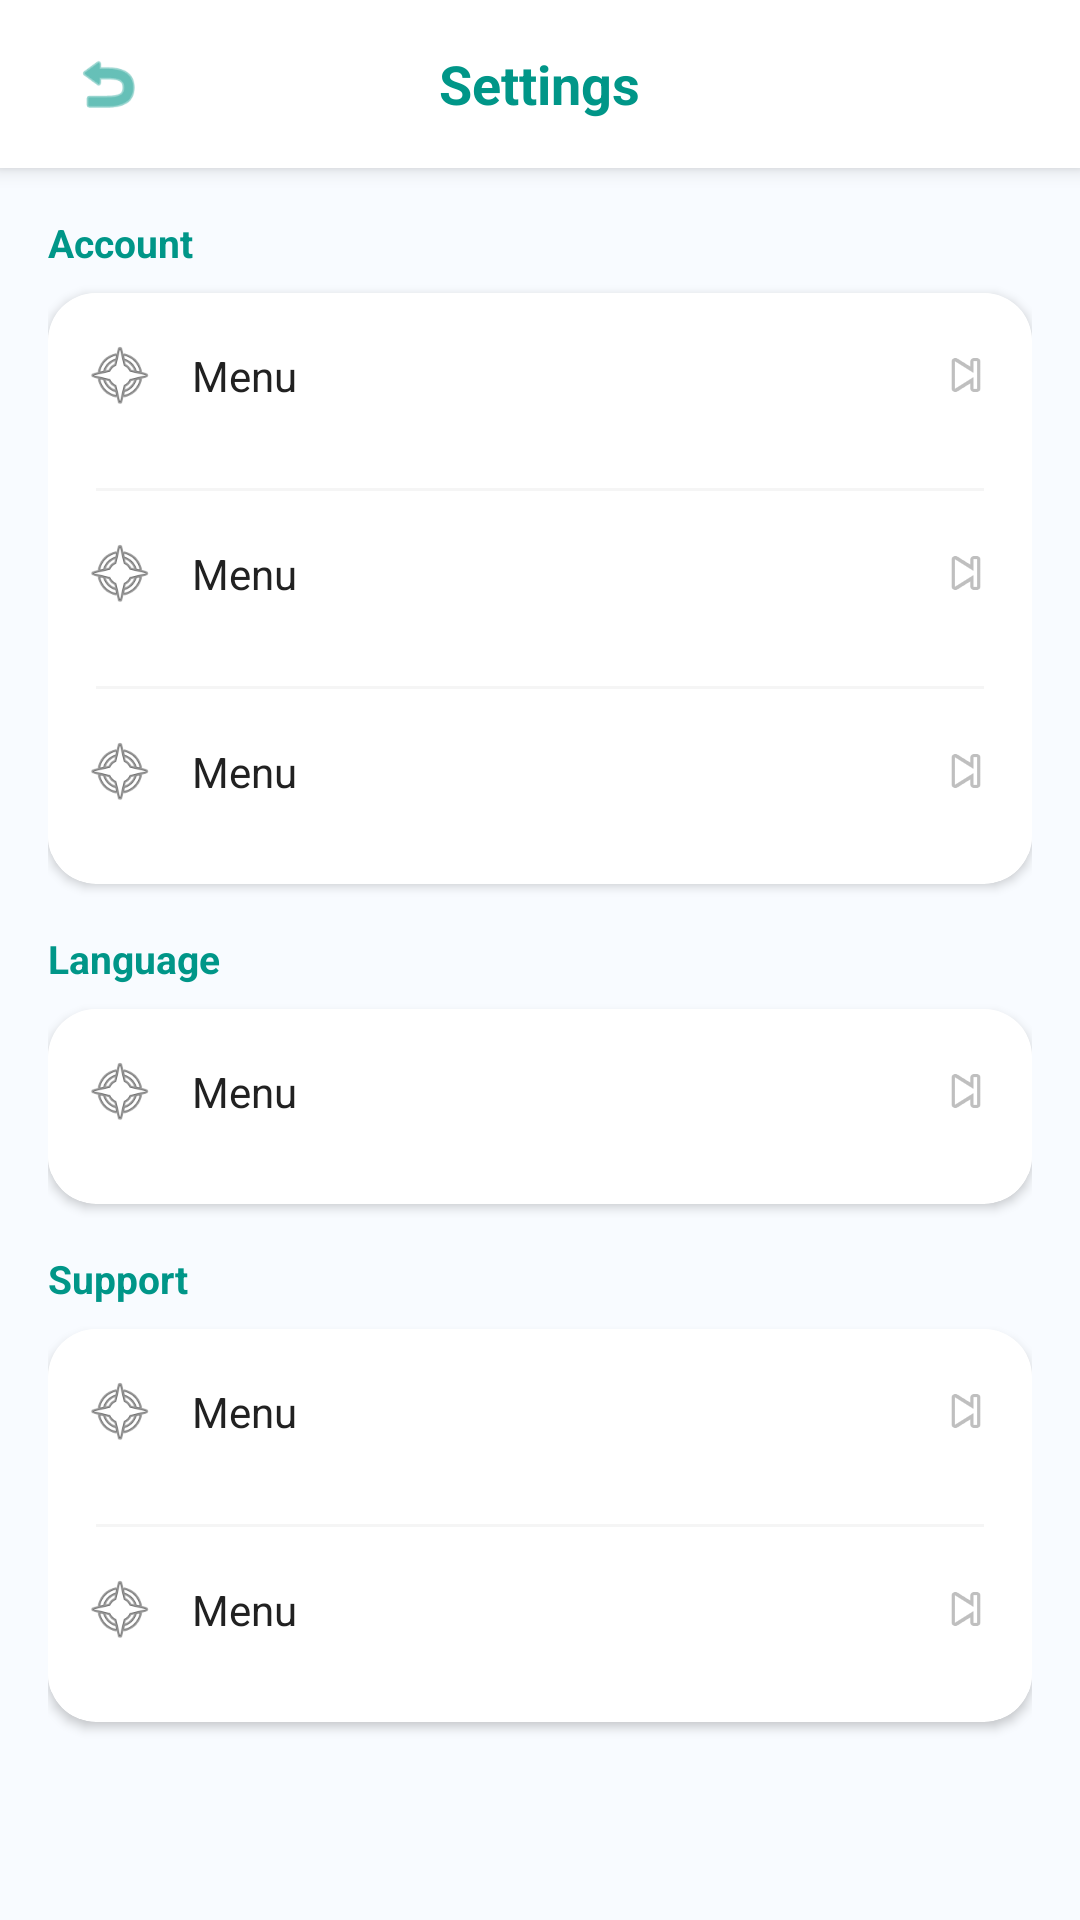

Icon bounding boxes for this 1080px×1920px phone screenshot, format (x1, y1, x2, y2):
compass: (91, 347, 148, 404), (91, 545, 148, 602), (91, 743, 148, 800), (91, 1063, 148, 1120), (91, 1383, 148, 1440), (91, 1581, 148, 1638)
next: (952, 358, 980, 392), (952, 556, 980, 590), (952, 754, 980, 788), (952, 1074, 980, 1108), (952, 1394, 980, 1428), (952, 1592, 980, 1626)
revert: (83, 61, 135, 108)
